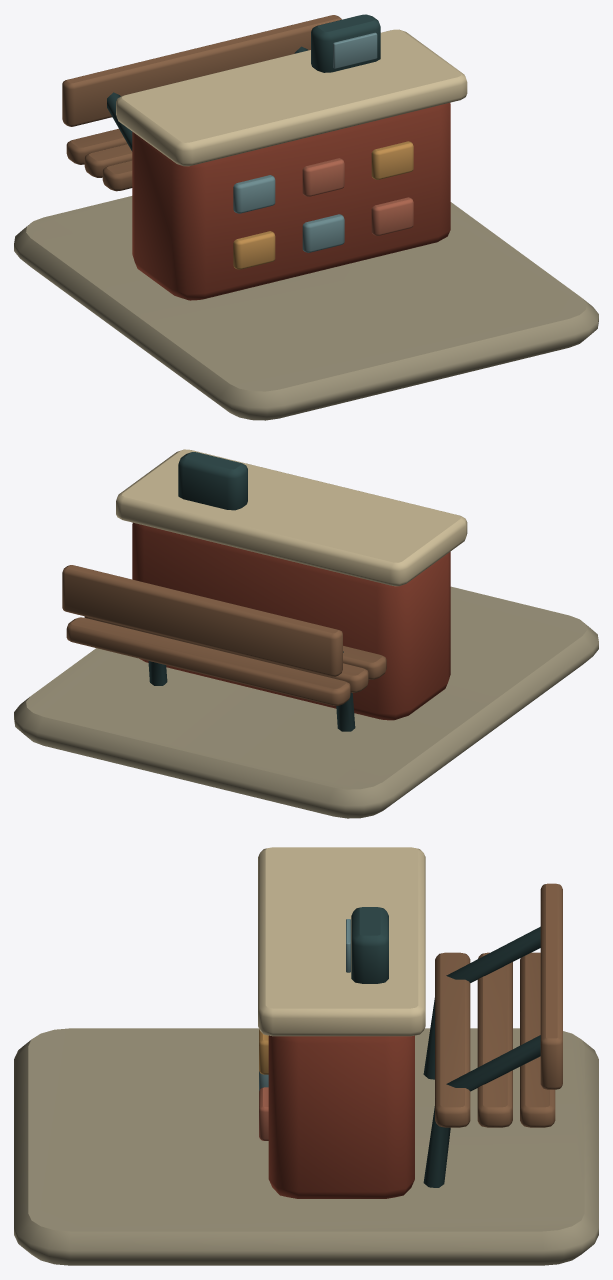
Rendered from valley_market_1.glb.
3 views of the same model, one above another, from view 1: azimuth 30°, elevation 25°; view 2: azimuth 150°, elevation 25°; view 3: azimuth 270°, elevation 25° (orthographic). The views are drawn at different scales.
Parts seen in each view (by area): view 1: Market1; view 2: Market1; view 3: Market1.
Boxes of the visible parts, x1,y1,x2,y2 form: Market1: (14,14,598,420); Market1: (14,449,598,818); Market1: (14,847,598,1265).
Size of the model in its own units: 2.16 by 1.32 by 2.48.
